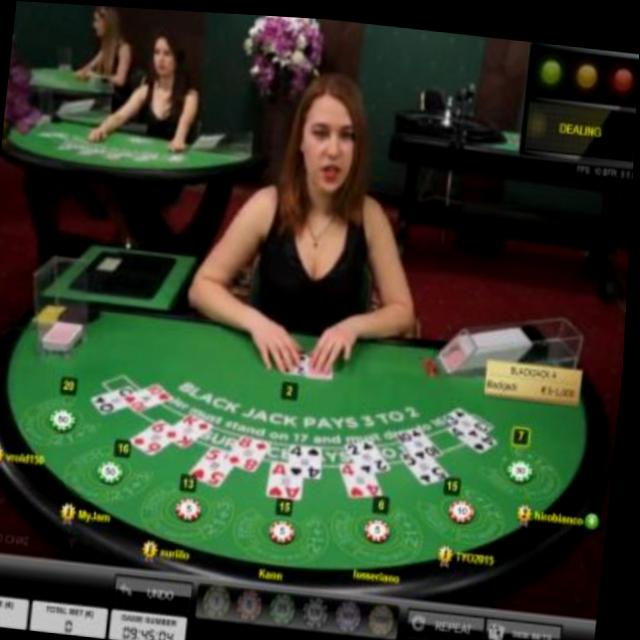Card-10: (399, 421, 446, 456), (131, 381, 177, 411)
Card-2: (350, 435, 395, 471)
Card-3: (447, 401, 499, 431)
Card-4: (344, 459, 386, 493), (453, 420, 503, 447), (295, 440, 327, 476)
Card-5: (194, 443, 237, 484), (405, 445, 454, 479)
Card-6: (134, 417, 176, 454)
Card-8: (233, 431, 274, 468)
Card-A: (270, 456, 308, 494)
Card-K: (169, 410, 217, 447)
Card-Q: (95, 382, 139, 414)
